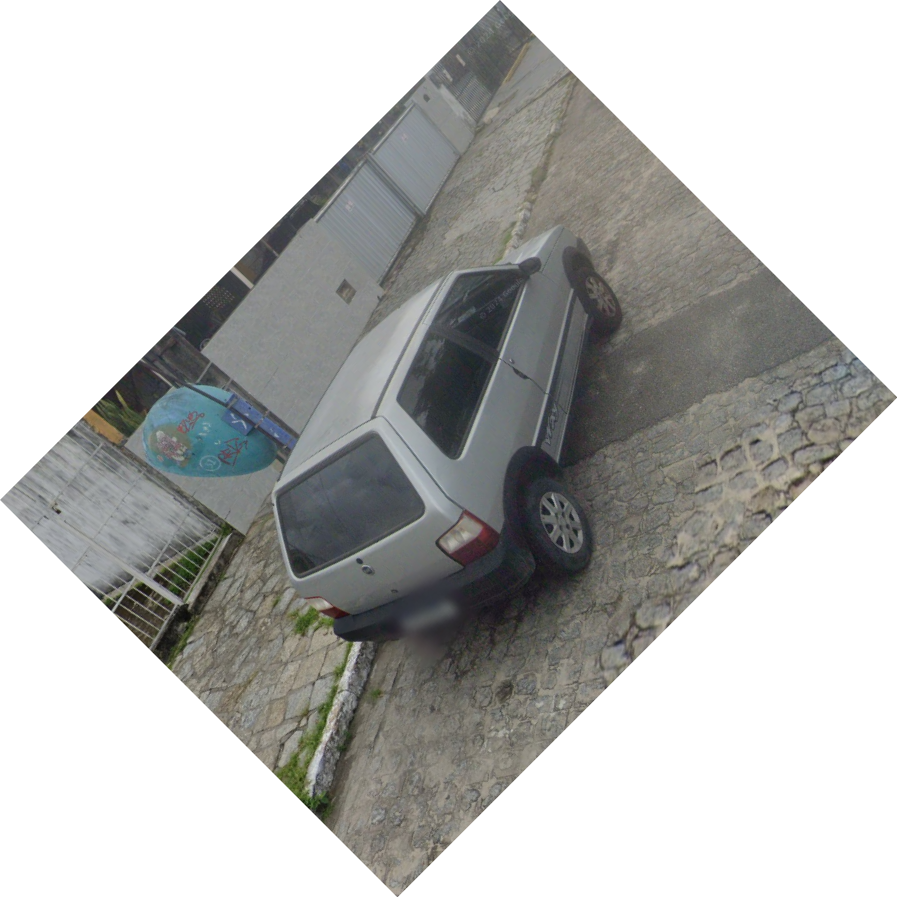car: (266, 220, 623, 646)
